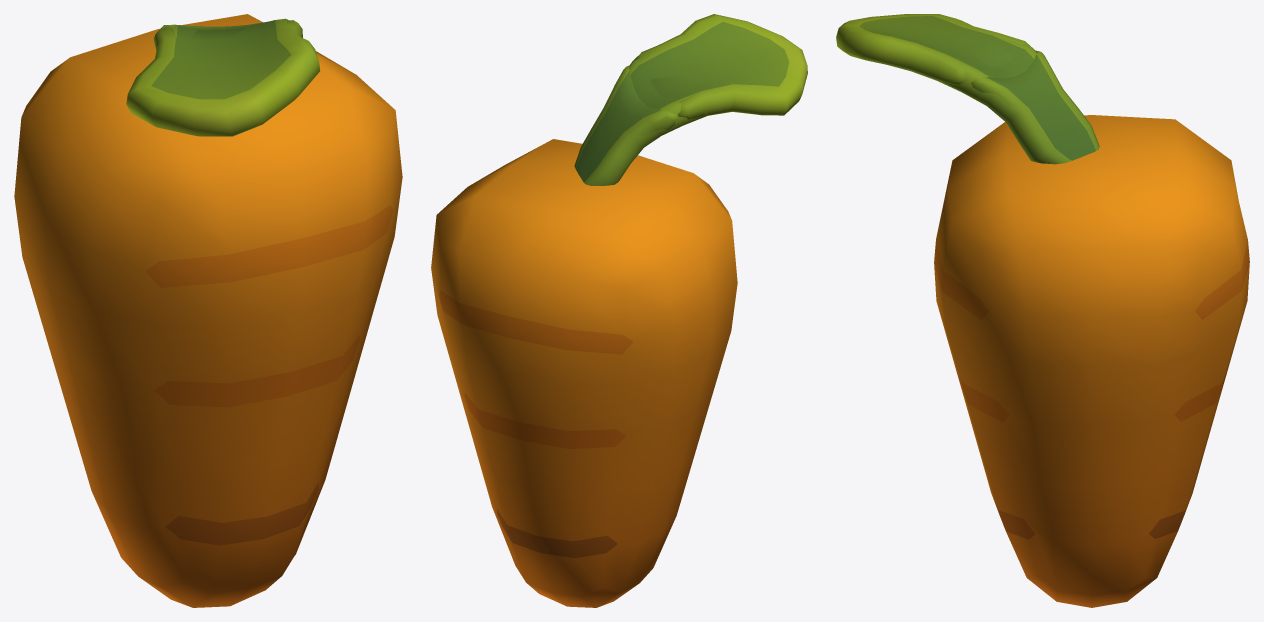
The model's file is carrot_cut.fbx.
The picture shows the model from 3 angles, left to right: view 1: azimuth 30°, elevation 25°; view 2: azimuth 150°, elevation 25°; view 3: azimuth 270°, elevation 25°; orthographic projection. The views are drawn at different scales.
Visible parts, largest first — view 1: vegetableCarrot, leafCarrot_full, leafCarrot_cut2; view 2: vegetableCarrot, leafCarrot_full, leafCarrot_cut2, leafCarrot_cut1; view 3: vegetableCarrot, leafCarrot_full, leafCarrot_cut2, leafCarrot_cut1.
Boxes of the visible parts, x1,y1,x2,y2 form: vegetableCarrot: (14,14,402,607); leafCarrot_full: (126,18,319,136); leafCarrot_cut2: (127,20,319,136); vegetableCarrot: (431,139,737,607); leafCarrot_full: (574,14,807,185); leafCarrot_cut2: (632,21,807,119); leafCarrot_cut1: (579,65,677,185); vegetableCarrot: (934,115,1249,607); leafCarrot_full: (836,14,1099,164); leafCarrot_cut2: (841,21,1030,85); leafCarrot_cut1: (971,50,1098,163).
Size of the model in its own units: 0.2742 by 0.5146 by 0.3509.
Materials: 1 (1 with a texture image).
